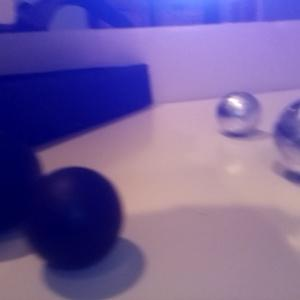alive_ball: (24, 166, 121, 267), (272, 99, 300, 174), (216, 91, 259, 135)
dead_ball: (1, 131, 45, 235)
